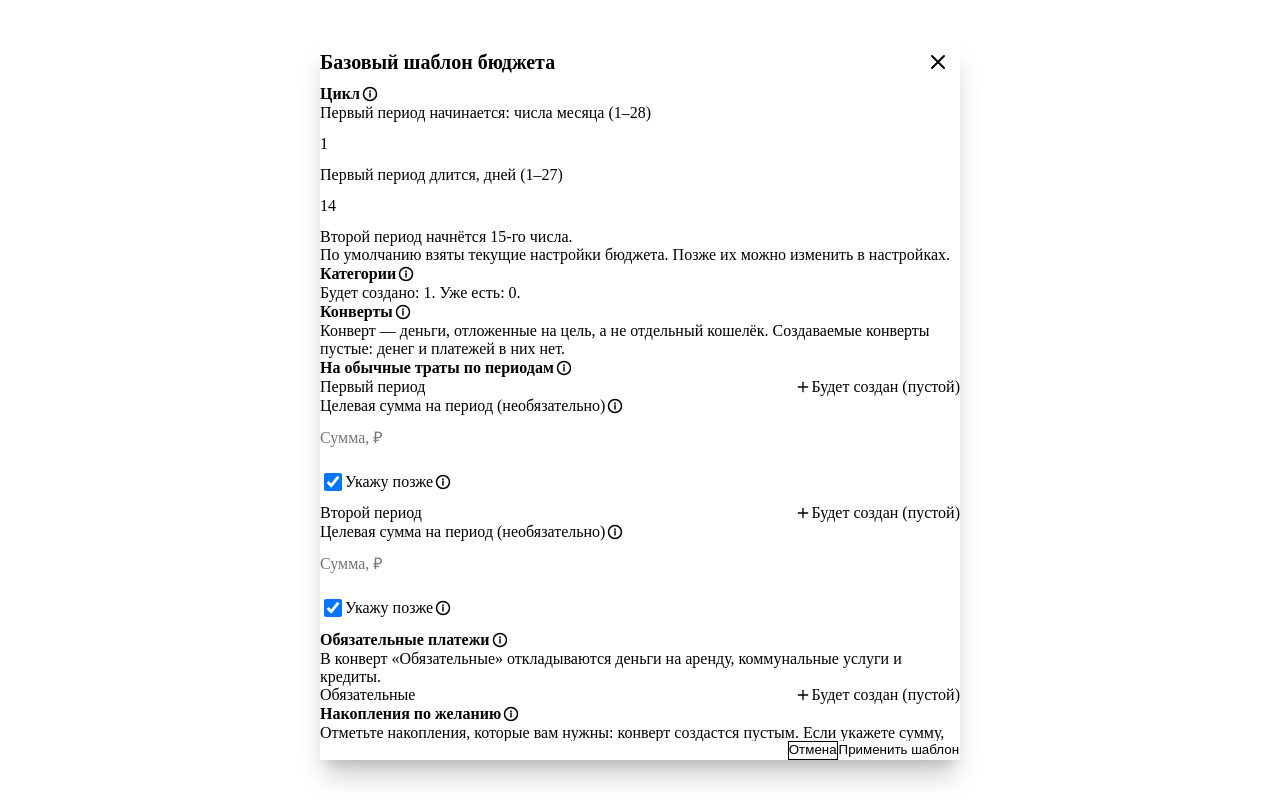
Test: TemplatePreviewSheet › offers a refresh on PREVIEW_STALE and re-requests the preview
Click the button with test id "template-apply" at (899, 751), box [838, 741, 960, 760]
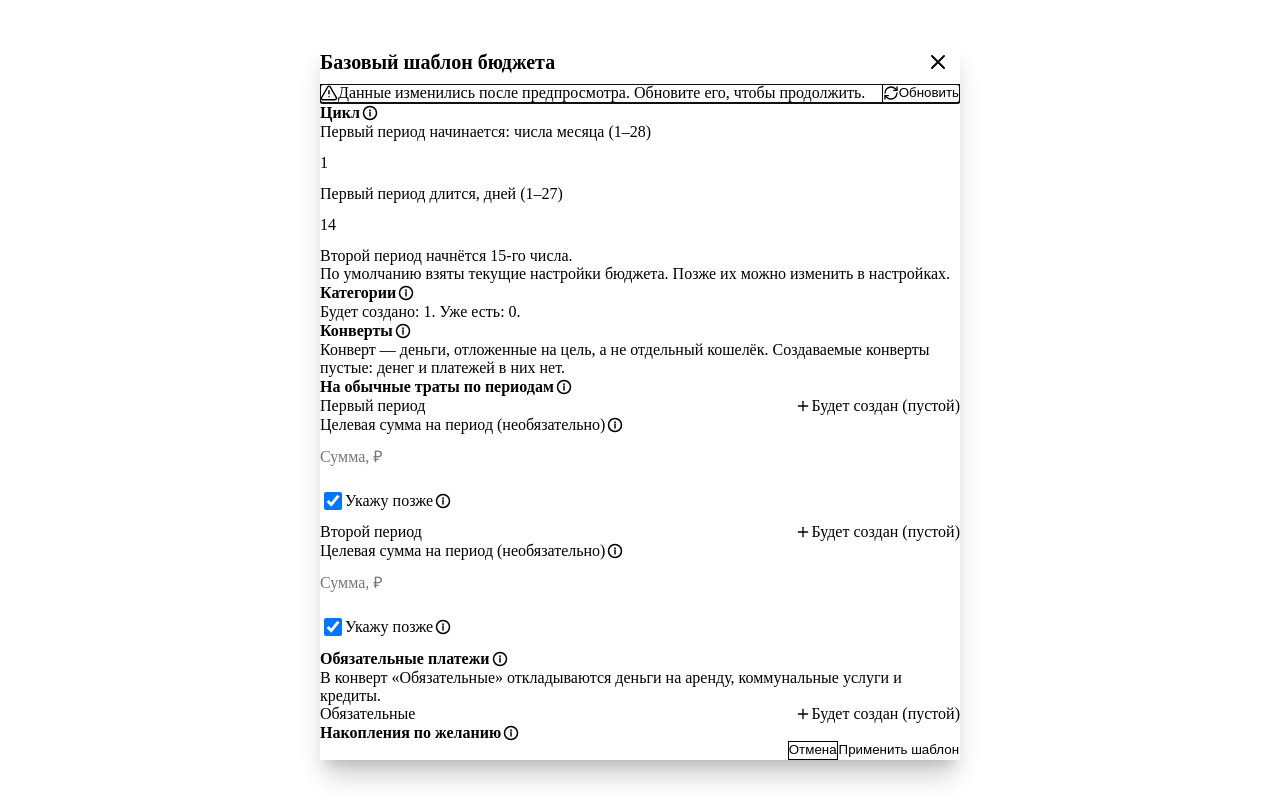
Click the button with test id "template-refresh" at (921, 93), box [882, 84, 960, 103]
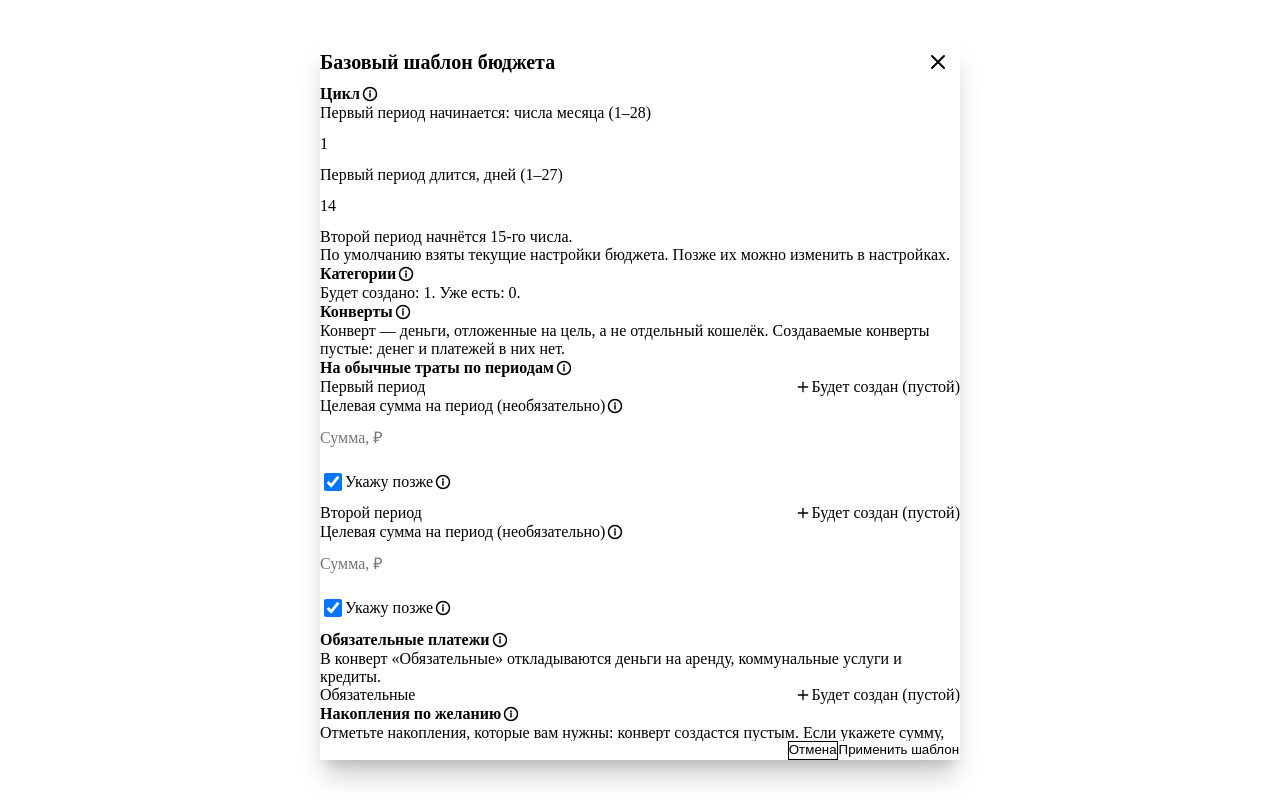
Now the button with test id "template-refresh" is gone
